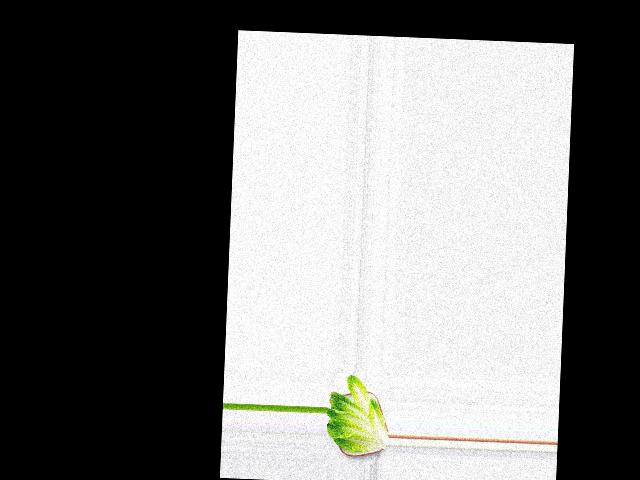lettuce: (323, 372, 389, 458)
